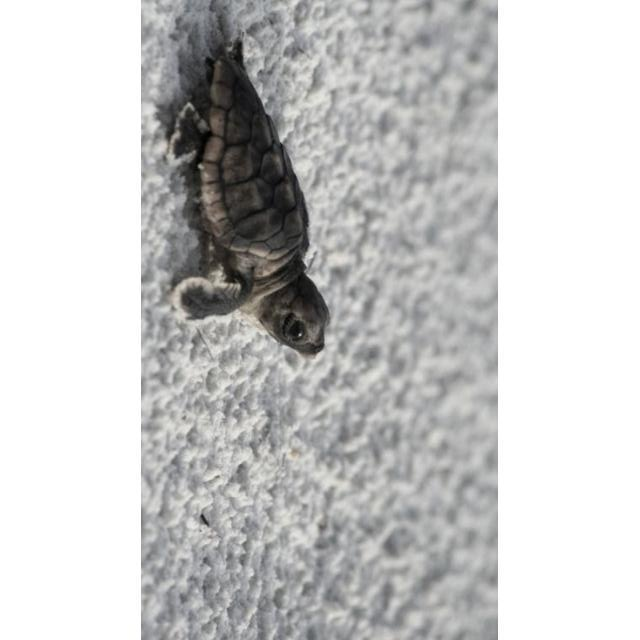turtle: (166, 34, 330, 362)
